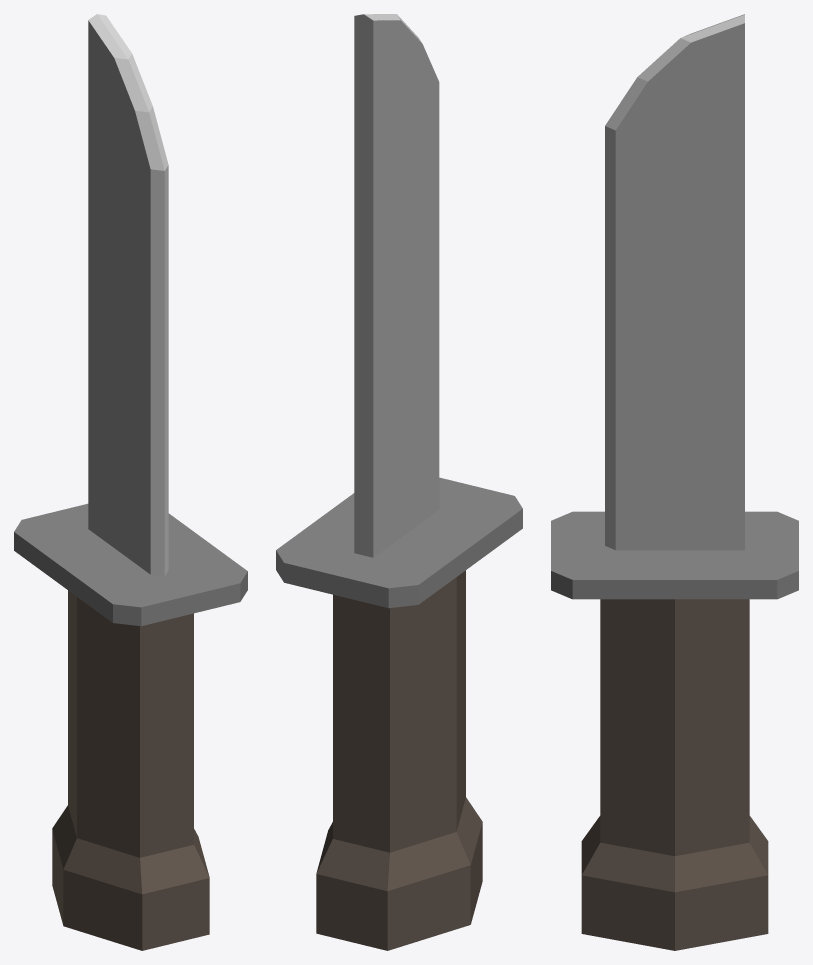
File: knife_smooth.fbx
3 renders of one model, left to right at view 1: azimuth 30°, elevation 25°; view 2: azimuth 150°, elevation 25°; view 3: azimuth 270°, elevation 25°, orthographic. The views are drawn at different scales.
Visible parts, largest first — view 1: Mesh1_Group1 Model; view 2: Mesh1_Group1 Model; view 3: Mesh1_Group1 Model.
Part boxes in pixels (x1,y1,x2,y2): Mesh1_Group1 Model: (14,14,247,950); Mesh1_Group1 Model: (276,14,522,950); Mesh1_Group1 Model: (551,14,798,950).
Size of the model in its own units: 0.009 by 0.0554 by 0.0138.
